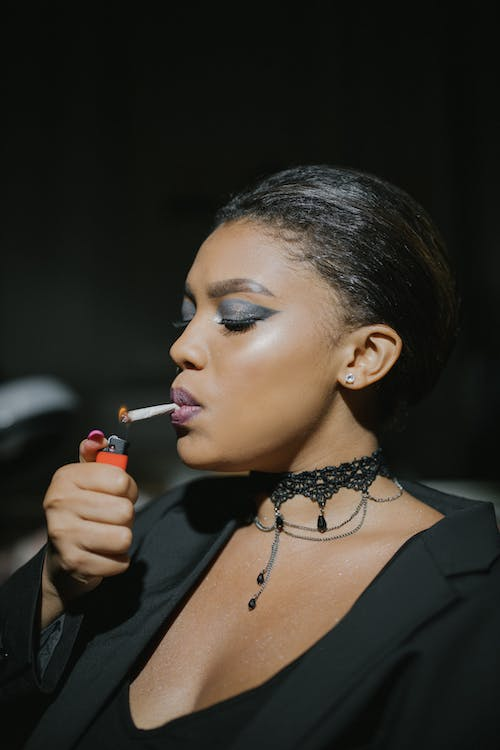cigarette: (117, 397, 183, 427)
